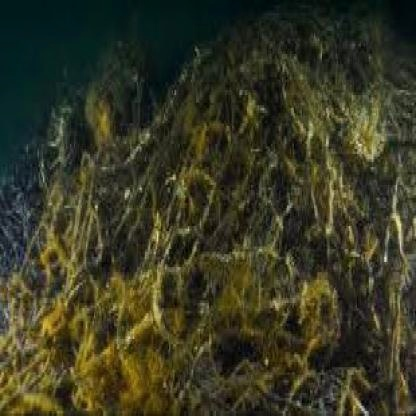net: (4, 25, 415, 414)
